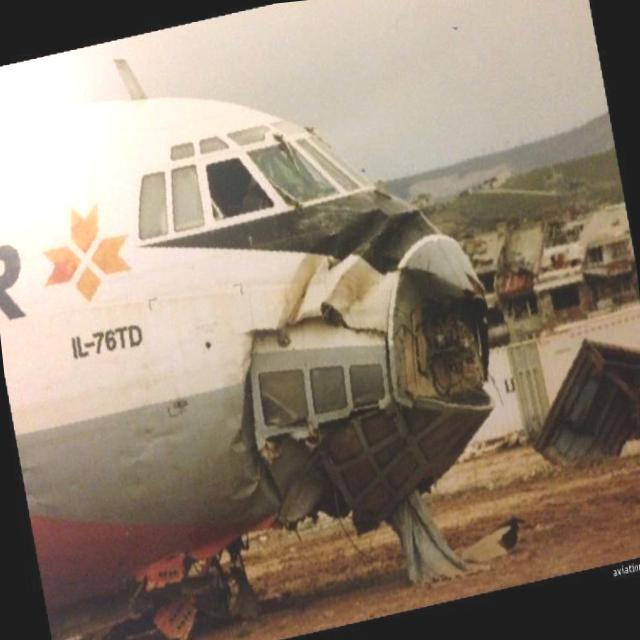dent: (226, 469, 262, 502), (227, 424, 250, 453)
